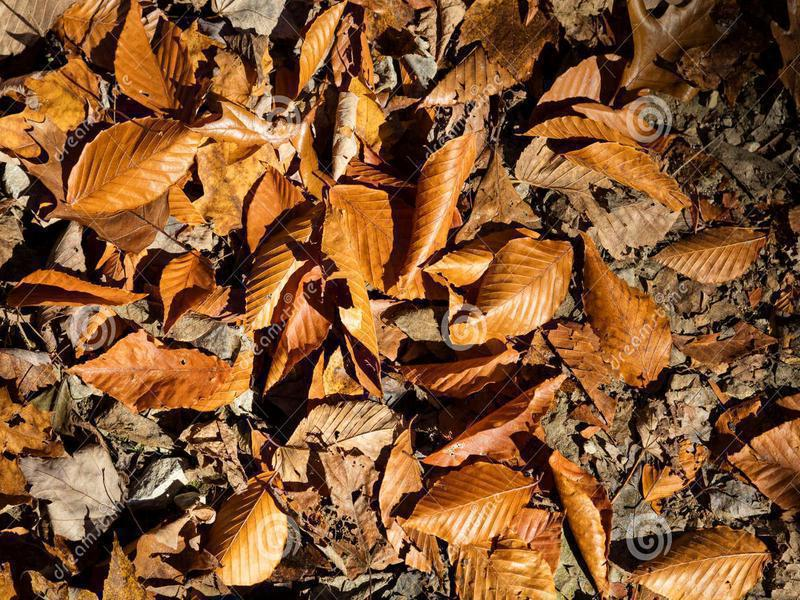leaf: (42, 114, 209, 226), (59, 328, 259, 420), (576, 228, 676, 391), (394, 123, 482, 290), (544, 442, 625, 600), (468, 230, 579, 344), (202, 459, 296, 589), (401, 458, 545, 542), (623, 523, 775, 600), (558, 136, 701, 214), (105, 1, 190, 114), (383, 348, 536, 403), (2, 267, 151, 323), (645, 224, 770, 287), (285, 1, 367, 97), (161, 246, 220, 339)
